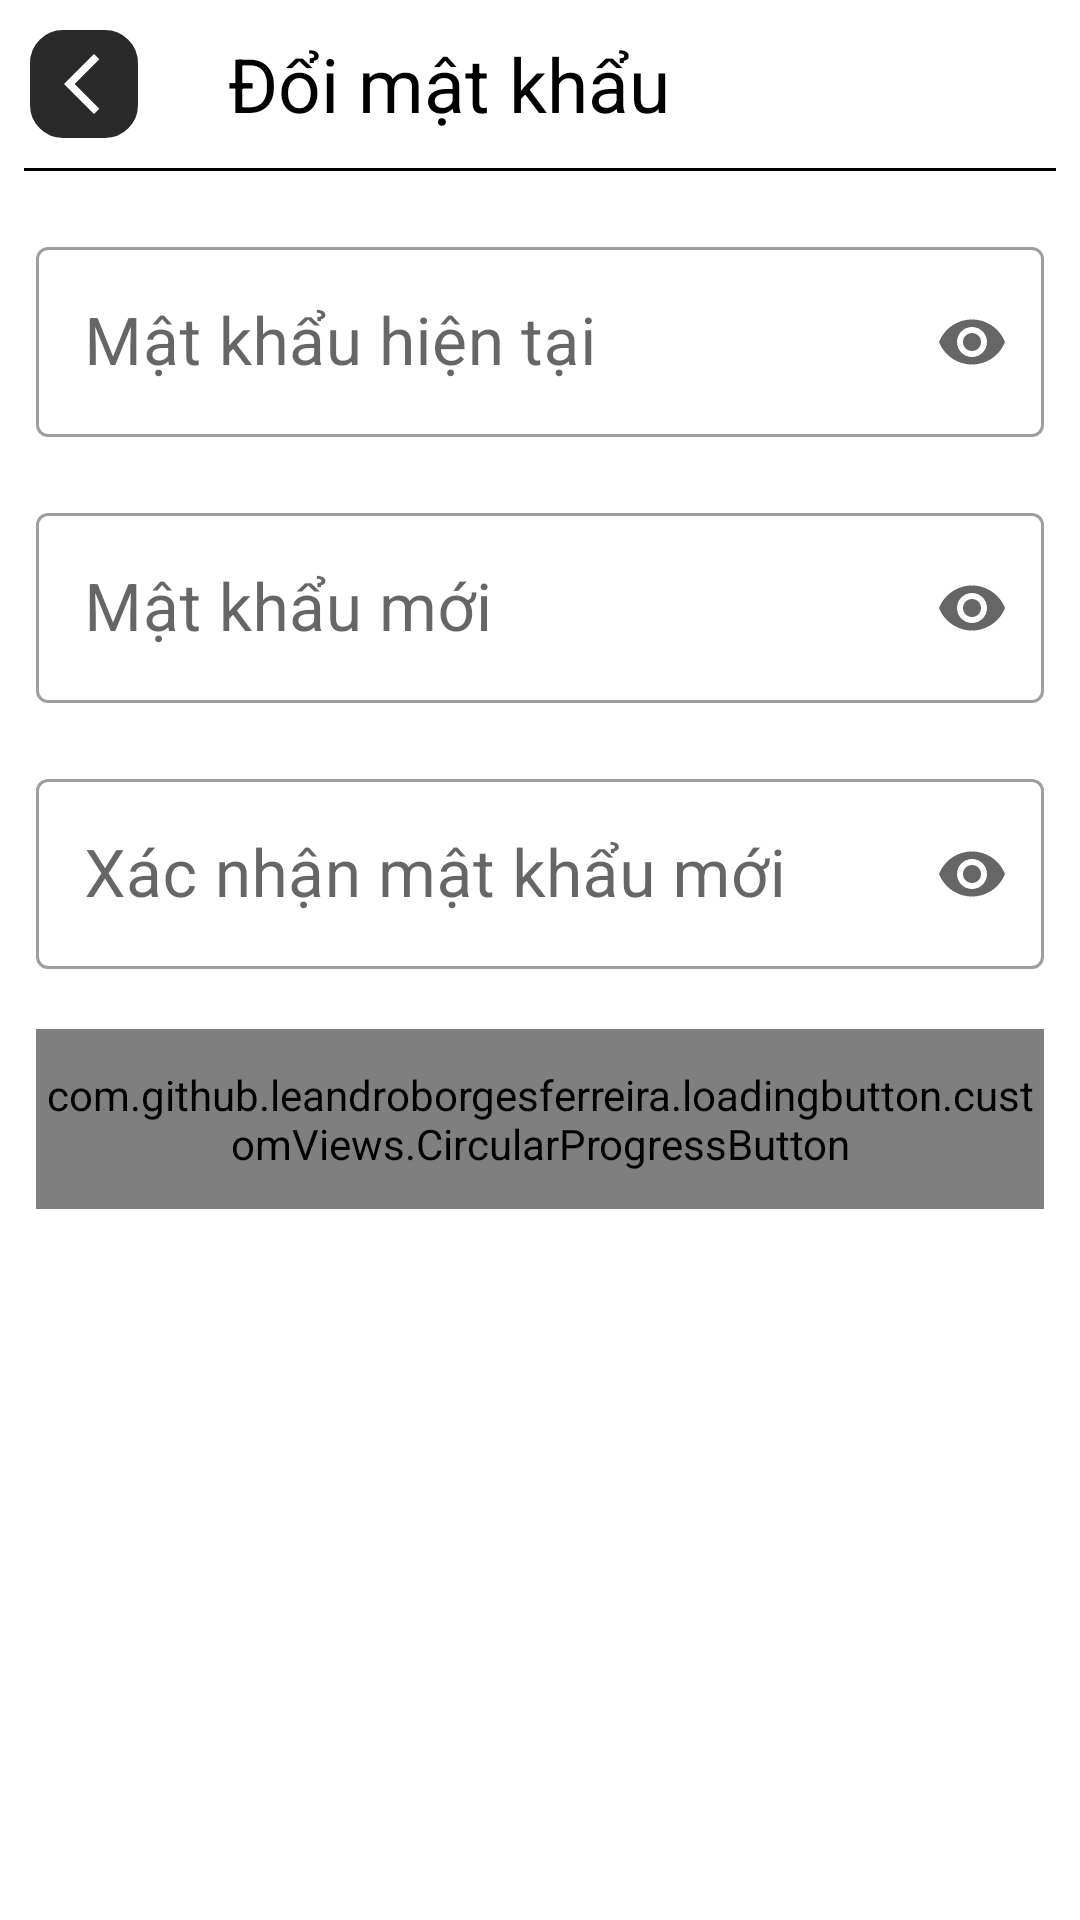

Icons on this 1080×1920 Android screen, each with its box as (x1, y1, x2, y2):
back: (64, 54, 99, 114)
